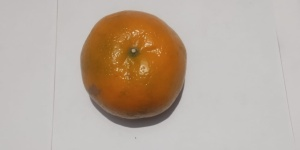BAD: (81, 10, 187, 121)
